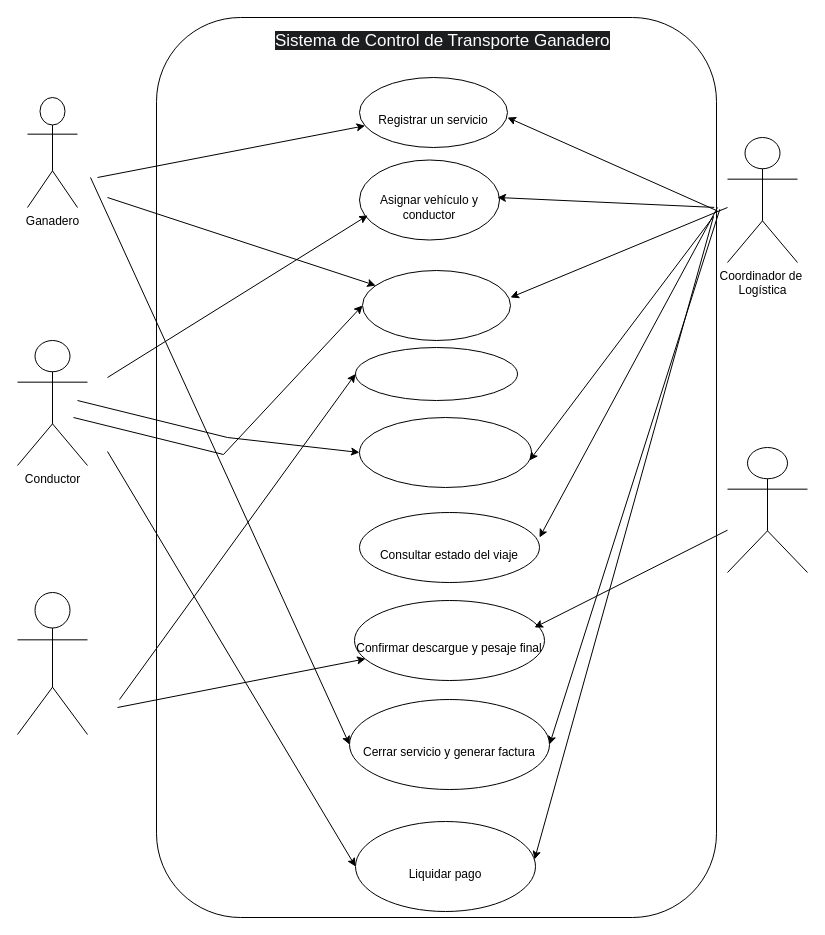
Some shapes in this 825 by 935 pixel diagram are drawn without their labels. The centre of each missing label's shape, as x and y in pixels:
"Inspector" goes at [52,663].
"Receptor" goes at [767,509].
"Registrar pesaje y estado del Ganado" goes at [436,373].
"Registrar y validar guía sanitaria" goes at [436,305].
"Reportar ubicación e incidentes" goes at [445,452].
